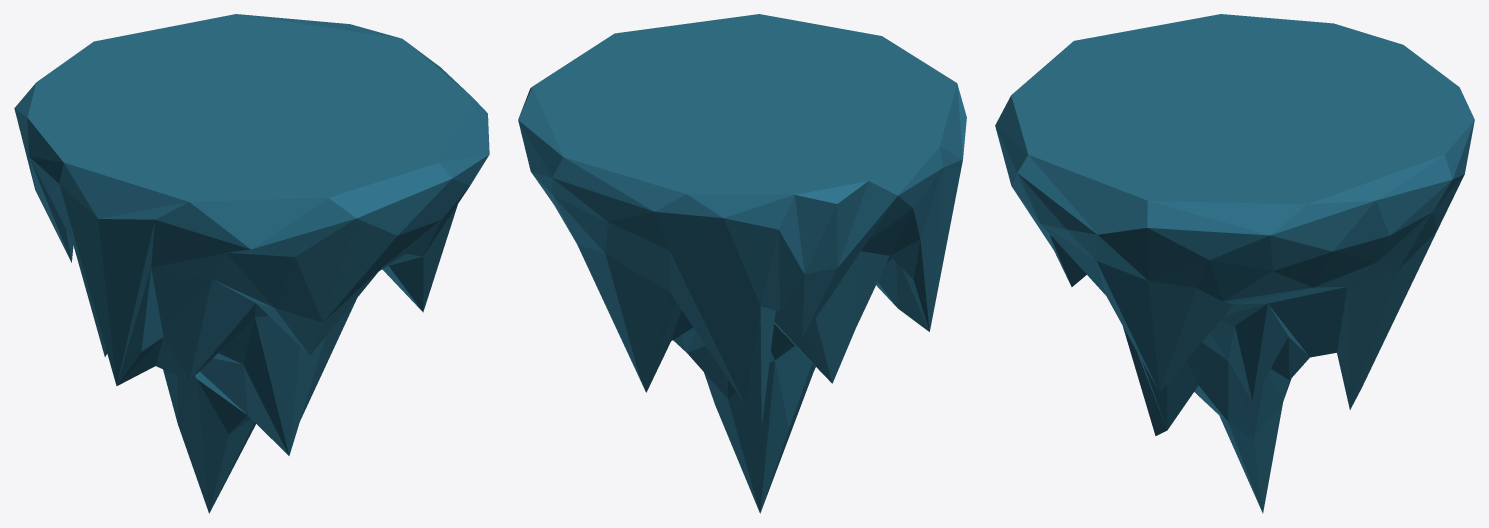
Rendered from FloatingLand01.fbx.
3 views of the same model, side by side, from view 1: azimuth 30°, elevation 25°; view 2: azimuth 150°, elevation 25°; view 3: azimuth 270°, elevation 25° (orthographic). The views are drawn at different scales.
Parts seen in each view (by area): view 1: Icosphere; view 2: Icosphere; view 3: Icosphere.
Boxes of the visible parts, bbox=[...] form: Icosphere: bbox=[14, 14, 489, 513]; Icosphere: bbox=[518, 14, 966, 513]; Icosphere: bbox=[995, 14, 1474, 513].
Bounding box in the file's own units: 186 × 178 × 186.
